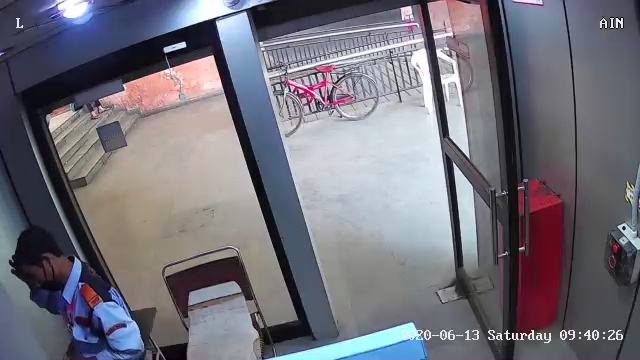open: (404, 4, 554, 356)
